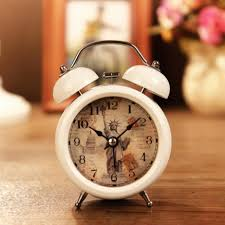alarm_clock: (47, 38, 173, 208), (50, 38, 173, 208), (50, 38, 172, 208)
